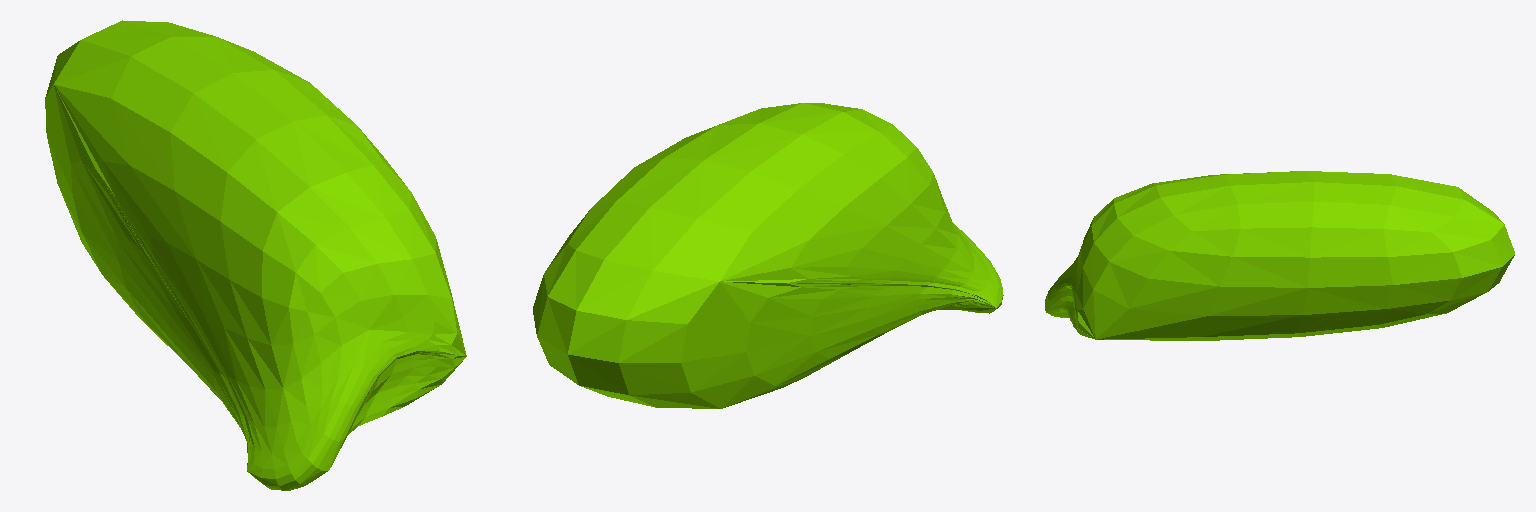
The robot description file, URDF, robot "blob472":

<robot name="blob472">
  <link name="random_obj_472">
    <contact>
      <lateral_friction value="1.0"/>
      <rolling_friction value="0.0"/>
      <inertia_scaling value="3.0"/>
      <contact_cfm value="0.0"/>
      <contact_erp value="1.0"/>
    </contact>
    <inertial>
      <origin rpy="0 0 0" xyz="0 0 0"/>
      <mass value="0.1001"/>
      <inertia ixx="1" ixy="0" ixz="0" iyy="1" iyz="0" izz="0"/>
    </inertial>
    <visual>
      <origin rpy="0 0 0" xyz="0 0 0"/>
      <geometry>
        <mesh filename="472.obj" scale="0.0095 0.0095 0.0095"/>
      </geometry>
      <material name="blockmat">
        <color rgba="0.54 0.86 0.03 1"/>
      </material>
    </visual>
    <collision>
      <origin rpy="0 0 0" xyz="0 0 0"/>
      <geometry>
        <mesh filename="472_coll.obj" scale="0.0095 0.0095 0.0095"/>
      </geometry>
    </collision>
  </link>
</robot>

--- What the picture shows (computed from the rendered views, not written in the file) ---
Views: 3 orthographic renders of the robot side by side, from view 1: azimuth 30°, elevation 25°; view 2: azimuth 150°, elevation 25°; view 3: azimuth 270°, elevation 25°.
Robot: blob472 — 1 links, 0 joints (none); root link random_obj_472; default pose: all joints at 0.
Links seen in each view (by area): view 1: random_obj_472; view 2: random_obj_472; view 3: random_obj_472.
Link boxes in pixels (bbox=[...]): random_obj_472: bbox=[45, 20, 466, 490]; random_obj_472: bbox=[533, 103, 1003, 408]; random_obj_472: bbox=[1045, 171, 1514, 340].
Size in the robot's own frame: 0.0521 by 0.1198 by 0.0501 metres.
1 mesh visuals loaded from 1 distinct referenced files (1 OBJ).
